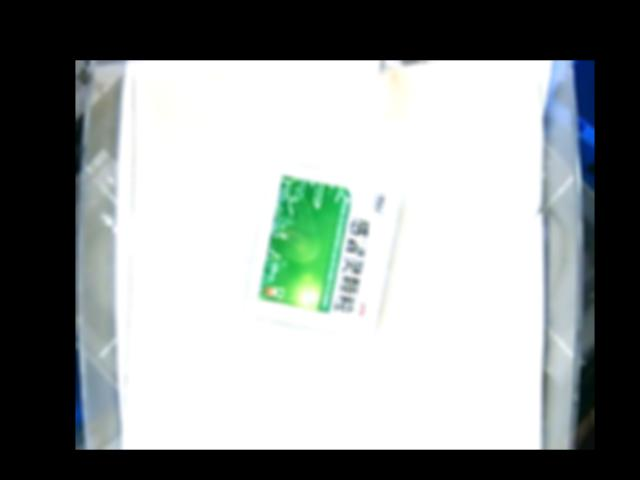Medicine: (249, 162, 405, 337)
